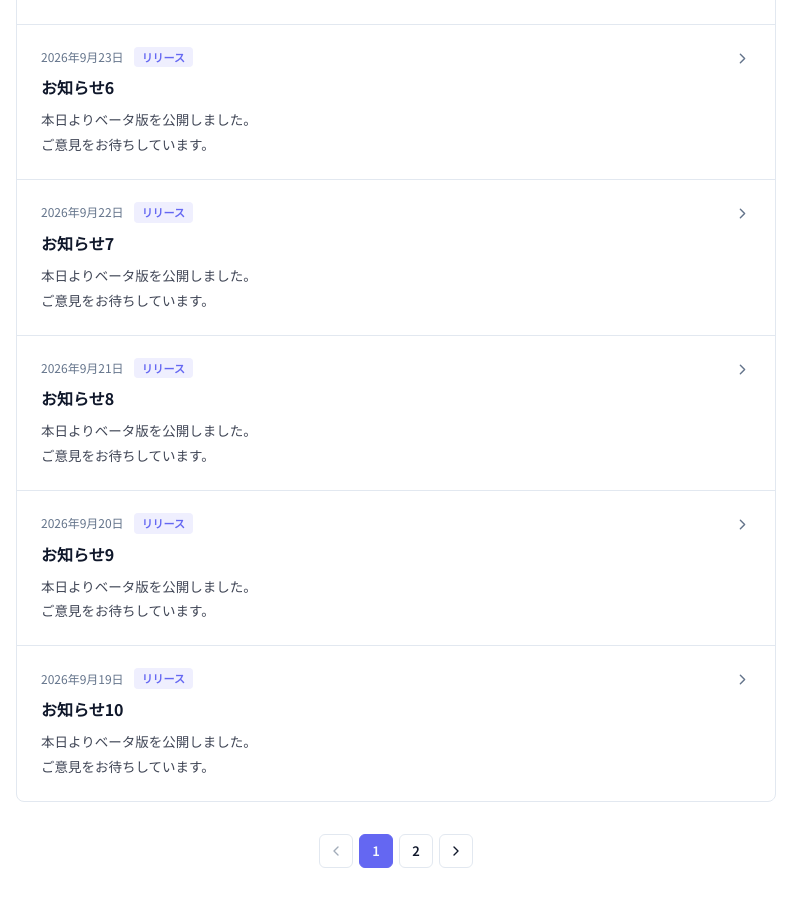
Scenario: 絞り込みとページ送り › 絞り込みを変えると1ページ目に戻る
The width and height of the screenshot is (793, 900).
(page scrolled)
Click the button "2" at (416, 851), box [399,834,433,868]
(page scrolled)
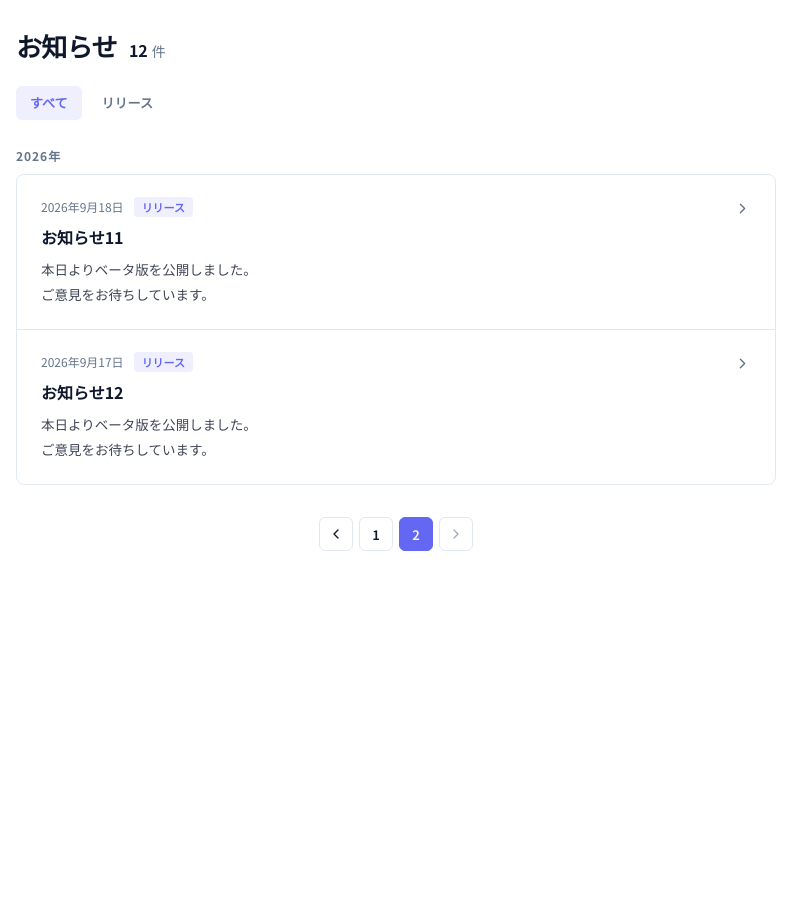
Click the button "すべて" at (49, 103), box [16,86,82,120]
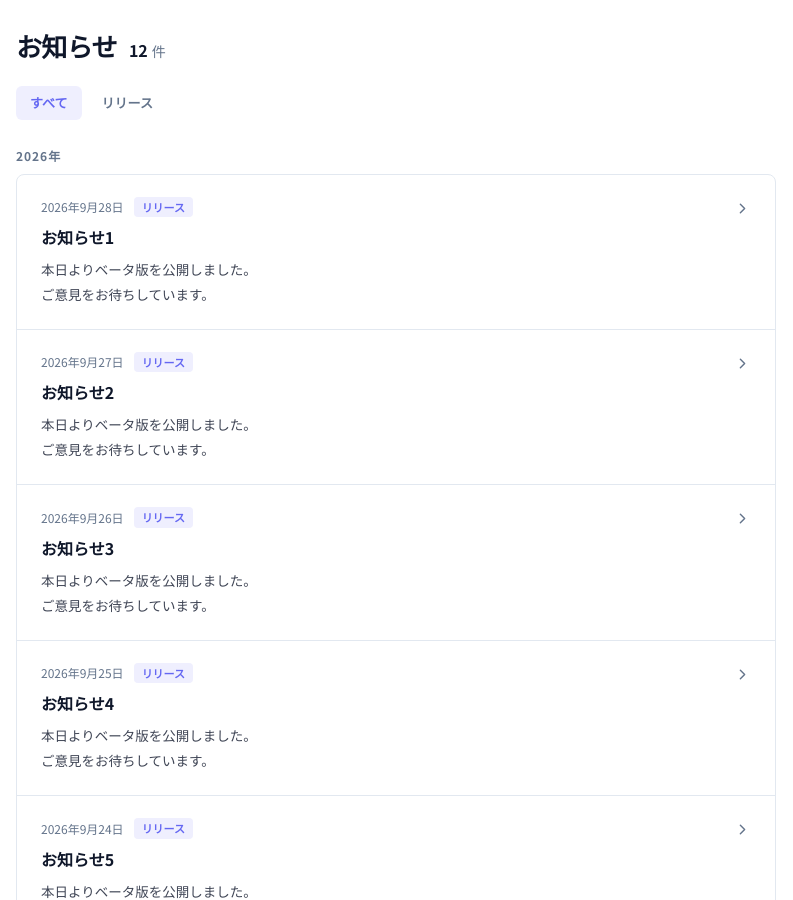
Expected: the number of list items is 10
